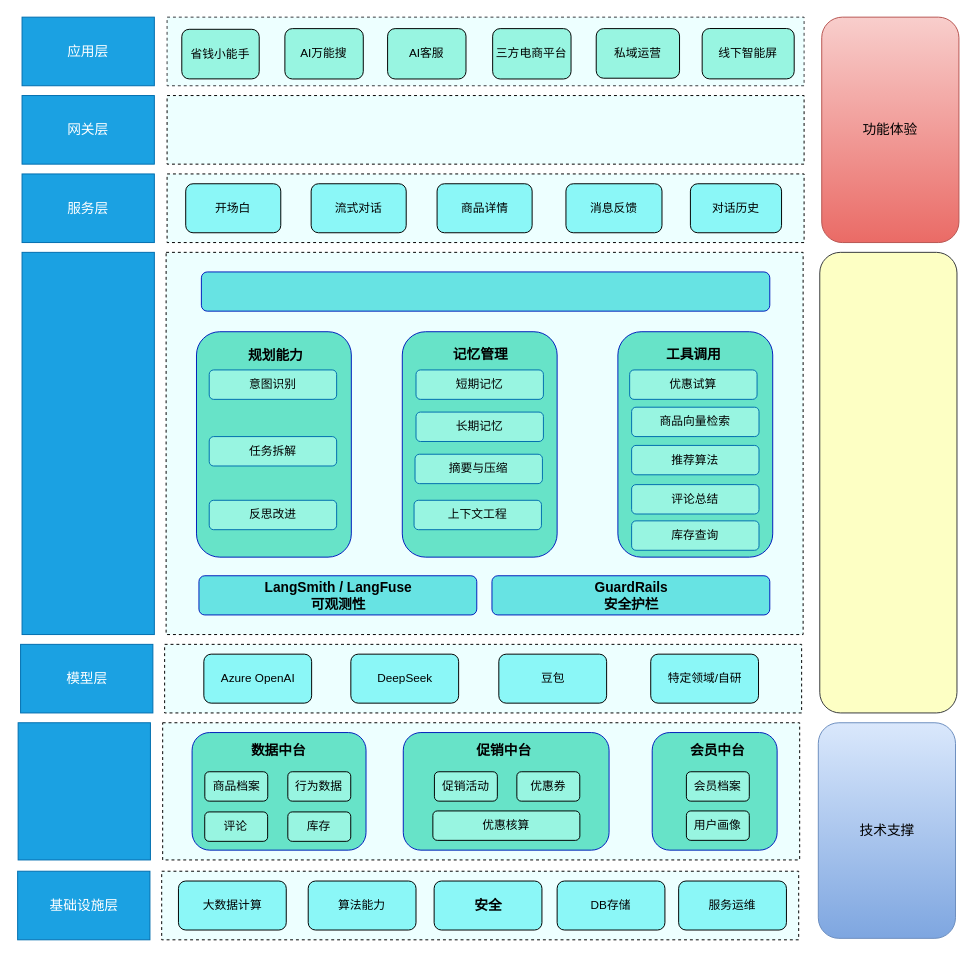
This 976x957 diagram has some shape labels left out. The centre of each missing label's shape, as x and y in pixels:
"Agent层" goes at (87,443).
"API GateWay 接口鉴权(JWT)、限流、熔断" goes at (485,129).
"Dify / LangGraph 框架" goes at (485,291).
"中台层" goes at (83,791).
"智能引擎" goes at (888,482).
